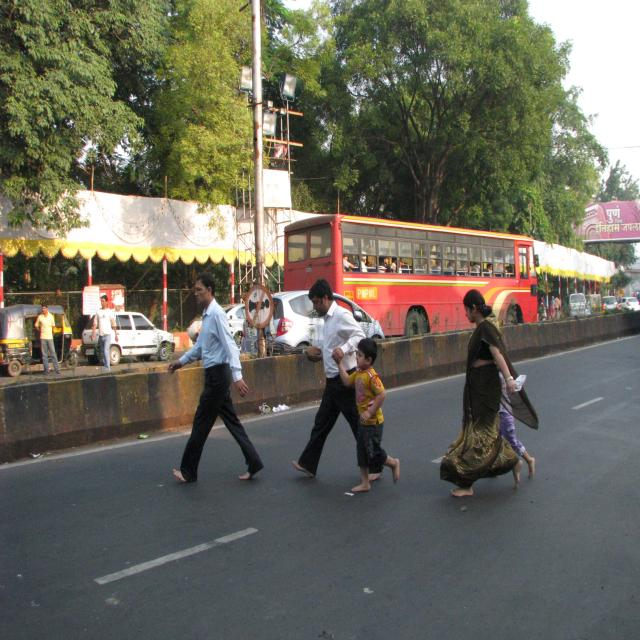body: (165, 270, 266, 484), (292, 276, 386, 484), (438, 288, 528, 499), (331, 335, 401, 494), (494, 357, 536, 480), (90, 294, 142, 373), (34, 302, 62, 378), (362, 238, 377, 272), (498, 257, 514, 278), (389, 257, 408, 274), (416, 256, 433, 274), (354, 250, 367, 272), (378, 256, 394, 273), (342, 253, 355, 272), (446, 259, 460, 276), (469, 260, 482, 277), (432, 258, 443, 274), (630, 289, 640, 305), (554, 294, 560, 319), (458, 260, 467, 276), (540, 294, 546, 317), (486, 262, 493, 278), (540, 298, 544, 320), (550, 296, 556, 308)
